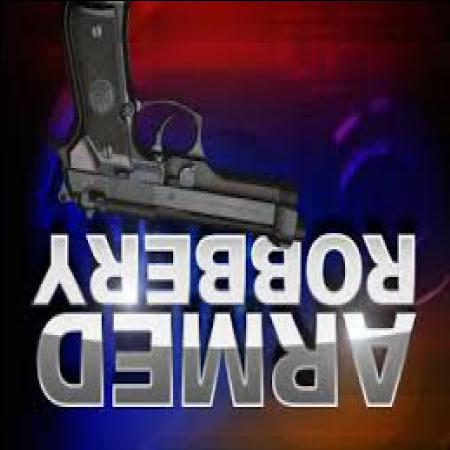Pistol: (50, 2, 308, 260)
